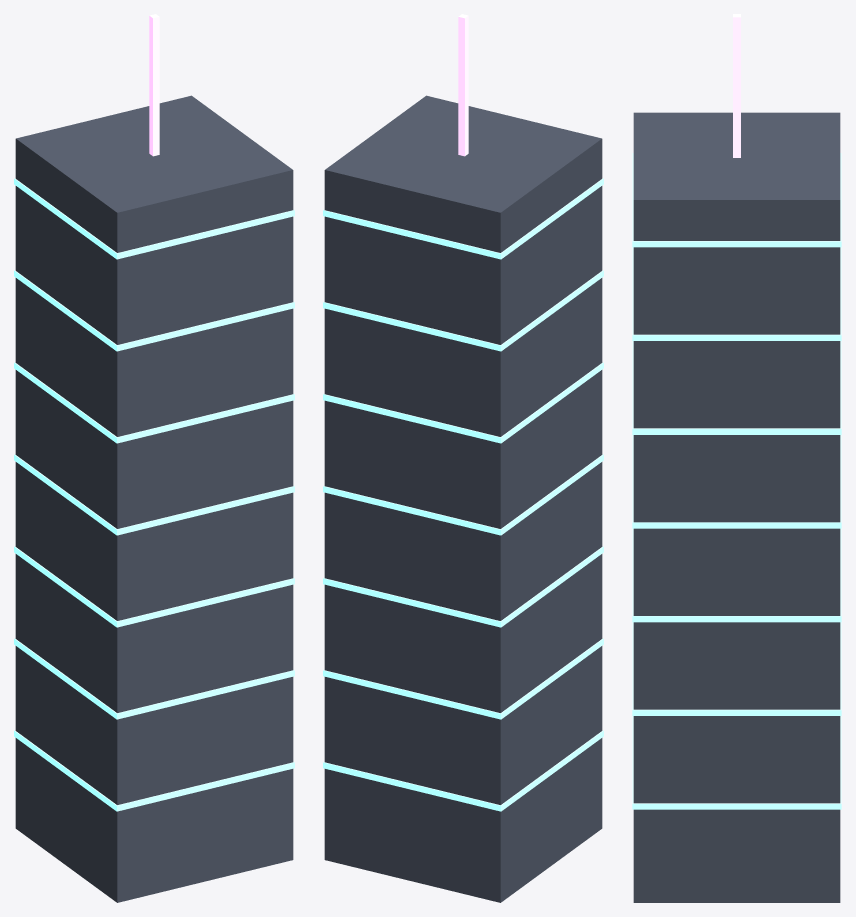
File: torre.glb
The picture shows the model from 3 angles, left to right: view 1: azimuth 30°, elevation 25°; view 2: azimuth 150°, elevation 25°; view 3: azimuth 270°, elevation 25°; orthographic projection.
Parts seen in each view (by area): view 1: torre; view 2: torre; view 3: torre.
Boxes of the visible parts, box(x1,y1,x2,y2) form: torre: box(14, 14, 294, 902); torre: box(323, 14, 603, 902); torre: box(632, 14, 841, 902).
Size of the model in its own units: 8.1 by 36 by 8.1.
